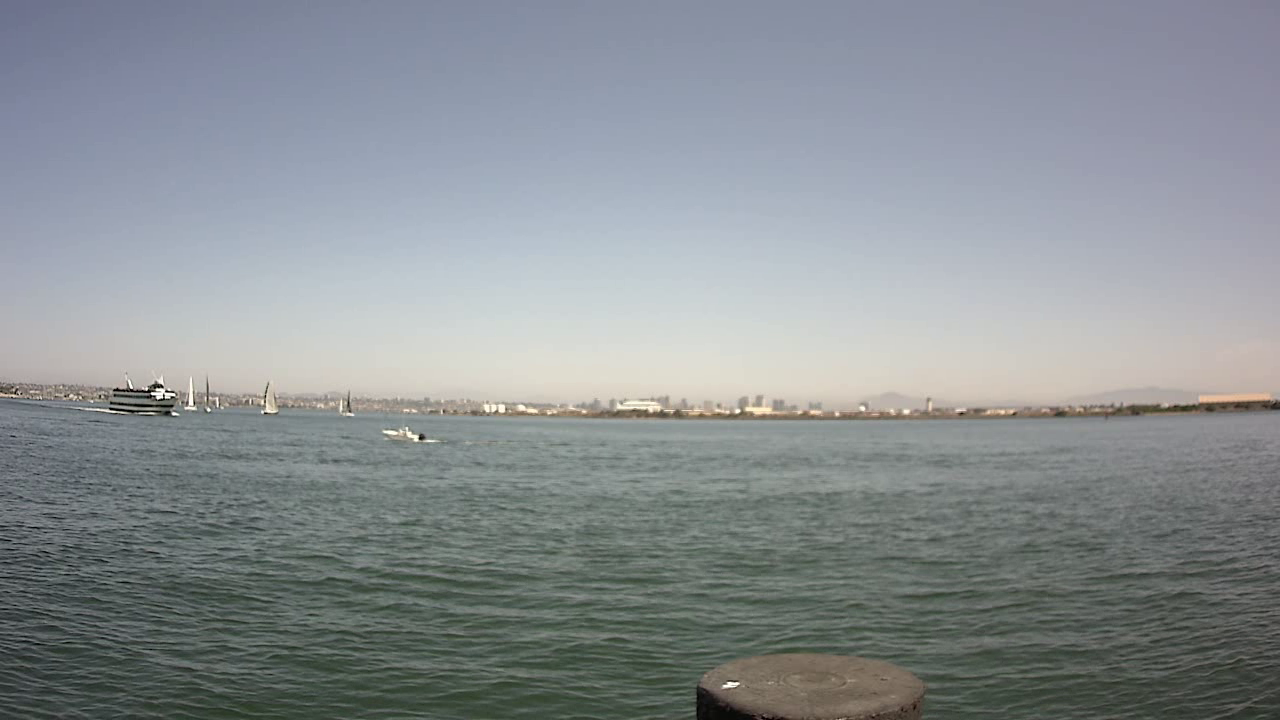target: (378, 416, 432, 448)
